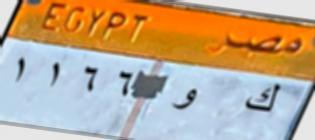1: (45, 59, 65, 93), (11, 55, 28, 89)
6: (82, 63, 99, 95), (117, 68, 133, 96)
kaaf: (244, 80, 281, 117)
waw: (172, 85, 199, 114)
